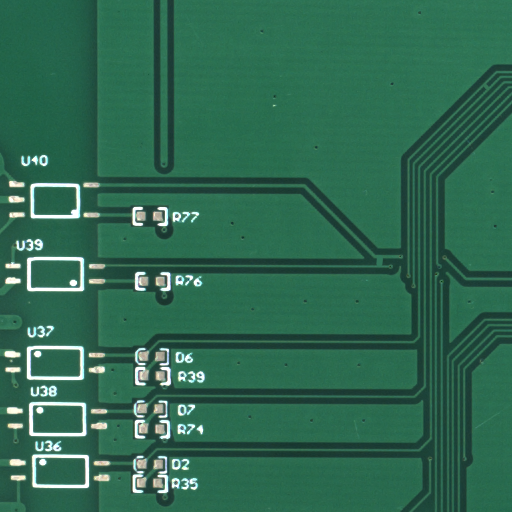Short: (379, 261, 390, 273), (486, 86, 494, 95)
